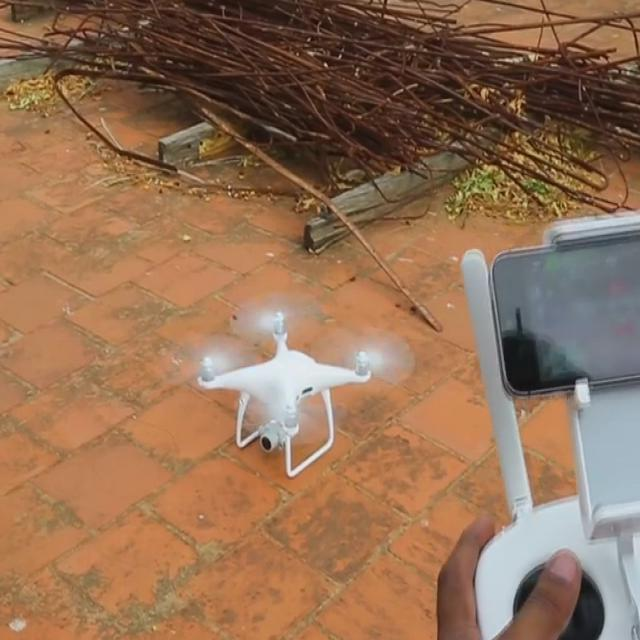drone: (176, 286, 418, 476)
